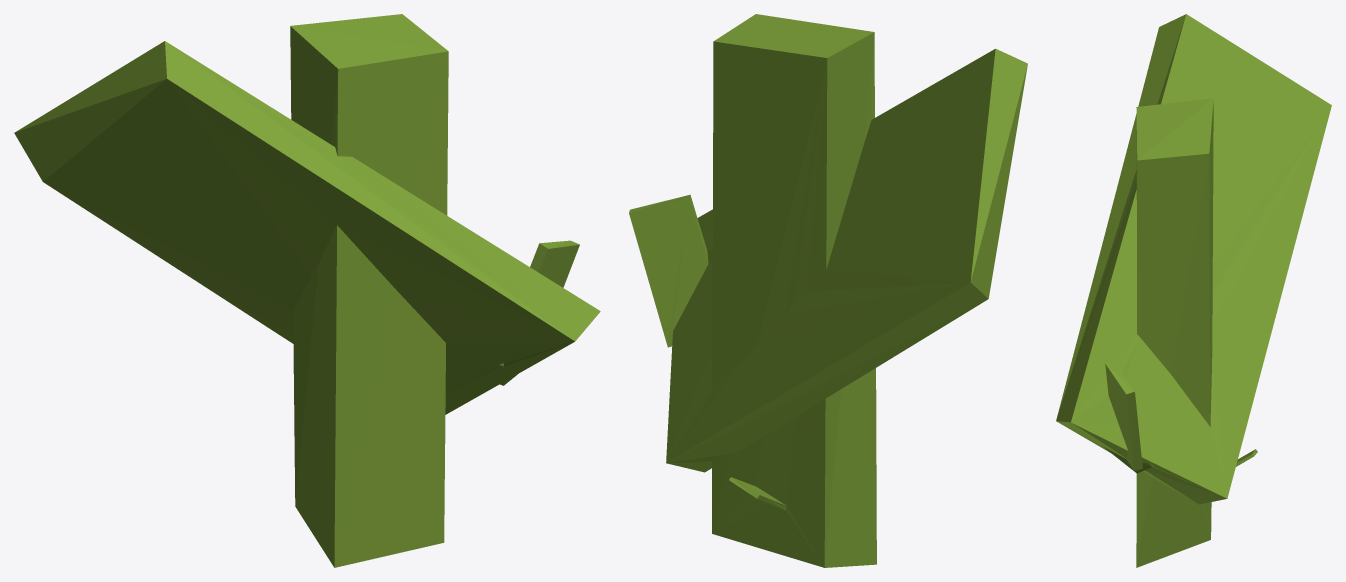
3 renders of one model, left to right at view 1: azimuth 30°, elevation 25°; view 2: azimuth 150°, elevation 25°; view 3: azimuth 270°, elevation 25°, orthographic. The views are drawn at different scales.
Parts seen in each view (by area): view 1: 357_Cube.1457; view 2: 357_Cube.1457; view 3: 357_Cube.1457.
Boxes of the visible parts, left/top/right/bottom form: 357_Cube.1457: left=14, top=14, right=600, bottom=567; 357_Cube.1457: left=629, top=14, right=1027, bottom=567; 357_Cube.1457: left=1056, top=14, right=1331, bottom=567.
Bounding box in the file's own units: 11.48 × 13.4 × 7.41.
